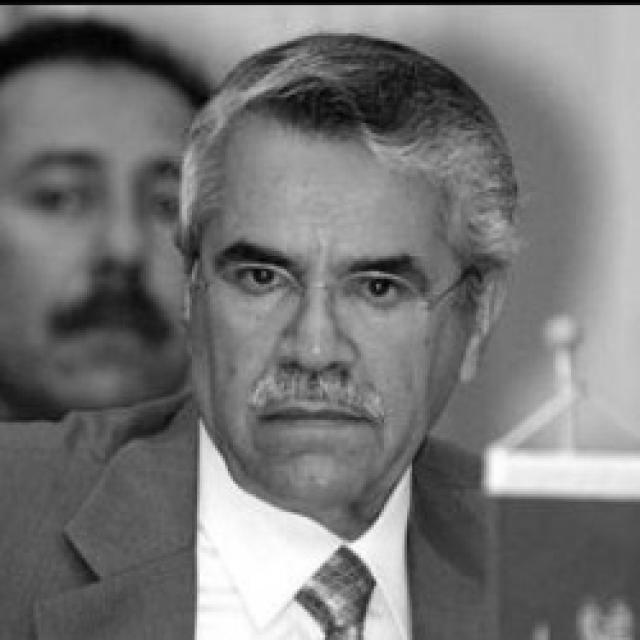real: (177, 42, 490, 512), (237, 240, 423, 317)
